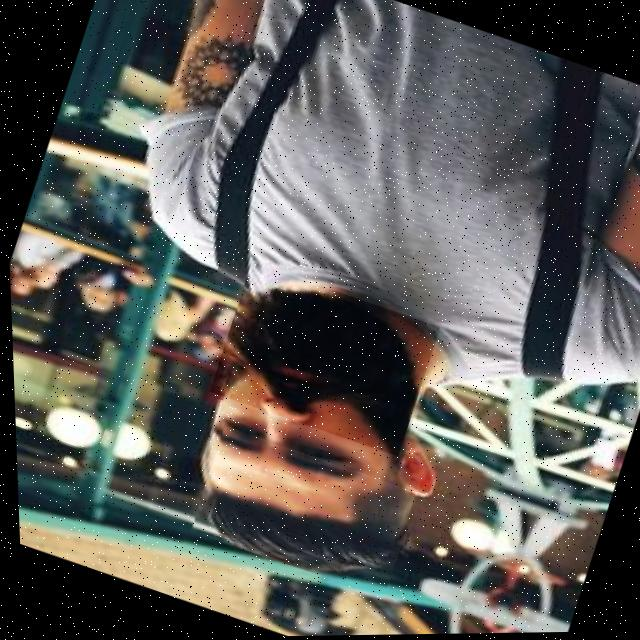beard: (226, 290, 413, 458)
hair: (196, 485, 408, 569)
